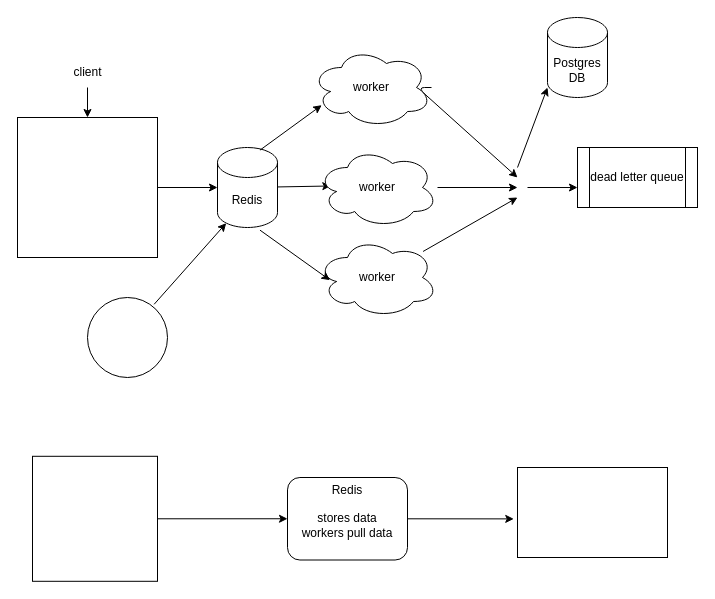
Some shapes in this 715 by 599 pixel diagram are drawn without their labels. The box of each missing label's shape, as (x1, y1, x2, y2) in pixels:
producer: (16, 116, 158, 258)
Producer stores job validates job generate job id store data push job: (32, 455, 158, 581)
scheduler: (86, 296, 168, 378)
worker fetch job execute job return job: (516, 466, 668, 558)
